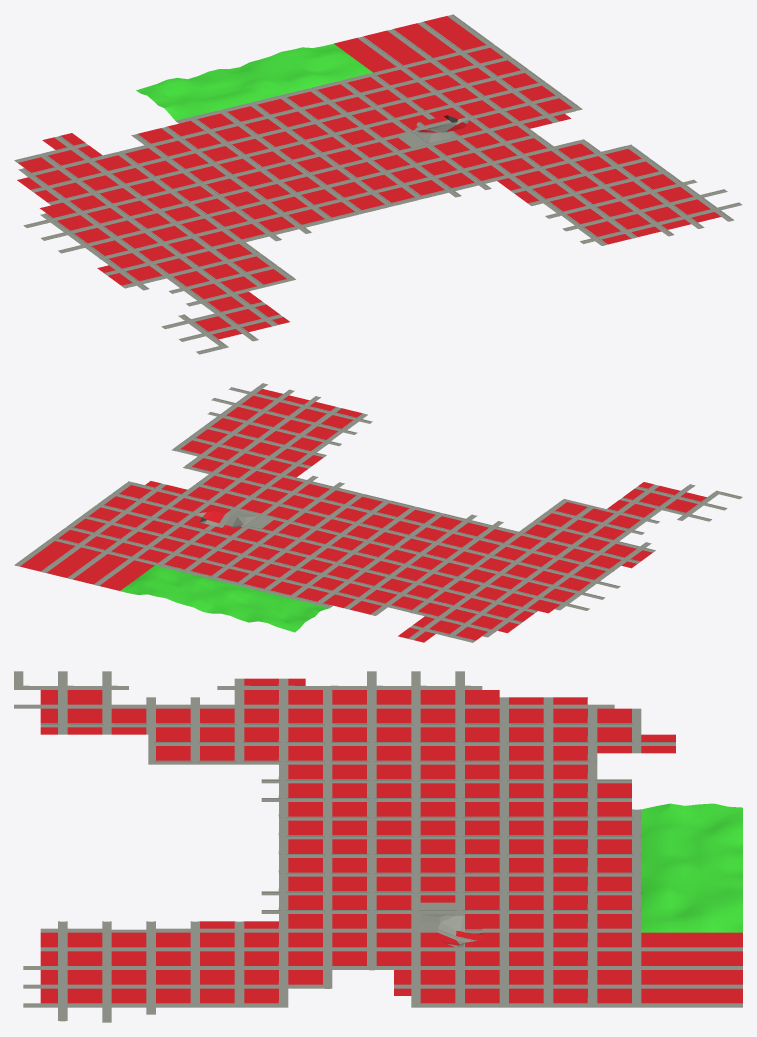
File: Map+Park+underground.glb
3 views of the same model, one above another, from view 1: azimuth 30°, elevation 25°; view 2: azimuth 150°, elevation 25°; view 3: azimuth 270°, elevation 25° (orthographic). The views are drawn at different scales.
Visible parts, largest first — view 1: City map with underpass, Park; view 2: City map with underpass, Park; view 3: City map with underpass, Park.
Boxes of the visible parts, x1=… form: City map with underpass: x1=14, y1=14, x2=742, y2=354; Park: x1=136, y1=43, x2=372, y2=120; City map with underpass: x1=14, y1=383, x2=742, y2=642; Park: x1=120, y1=565, x2=329, y2=632; City map with underpass: x1=14, y1=671, x2=742, y2=1022; Park: x1=640, y1=803, x2=742, y2=932.
Size of the model in its own units: 3821 by 128 by 3350.
